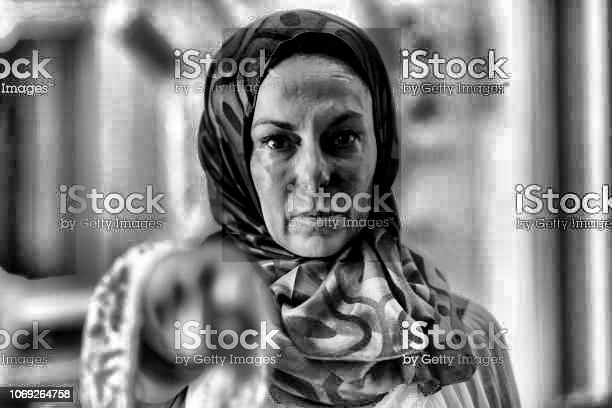angry: (223, 29, 402, 263)
